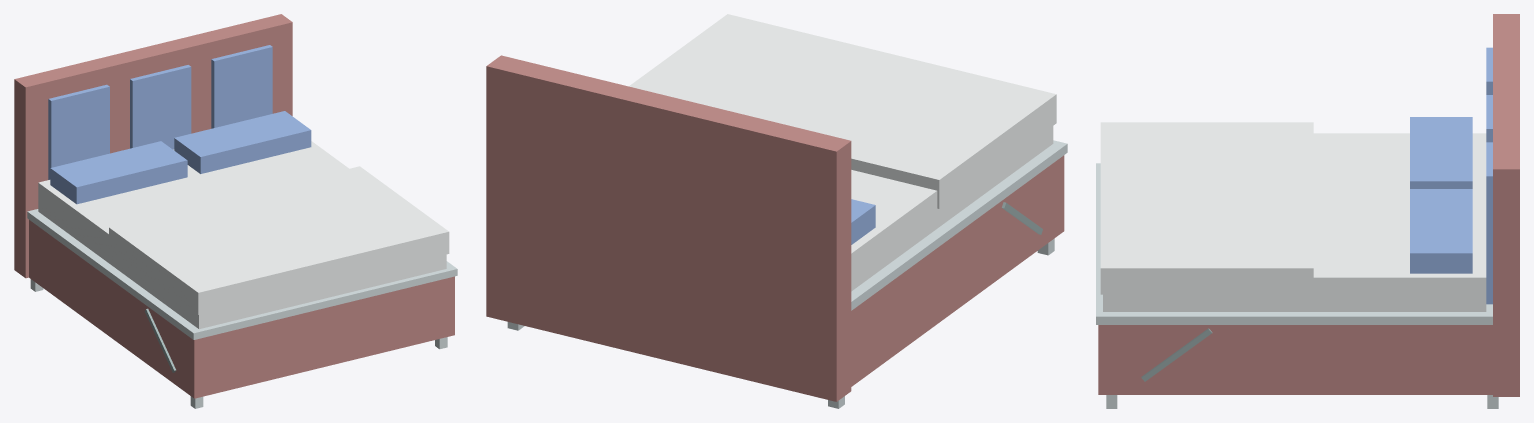
File: bedStorageLift.glb
3 views of the same model, side by side, from view 1: azimuth 30°, elevation 25°; view 2: azimuth 150°, elevation 25°; view 3: azimuth 270°, elevation 25° (orthographic). The views are drawn at different scales.
Visible parts, largest first — view 1: bedStorageLift; view 2: bedStorageLift; view 3: bedStorageLift.
Part boxes in pixels (<box>): bedStorageLift: <box>14,14,457,408</box>; bedStorageLift: <box>486,14,1067,408</box>; bedStorageLift: <box>1096,14,1519,408</box>.
Size of the model in its own units: 0.82 by 0.6 by 0.945.
